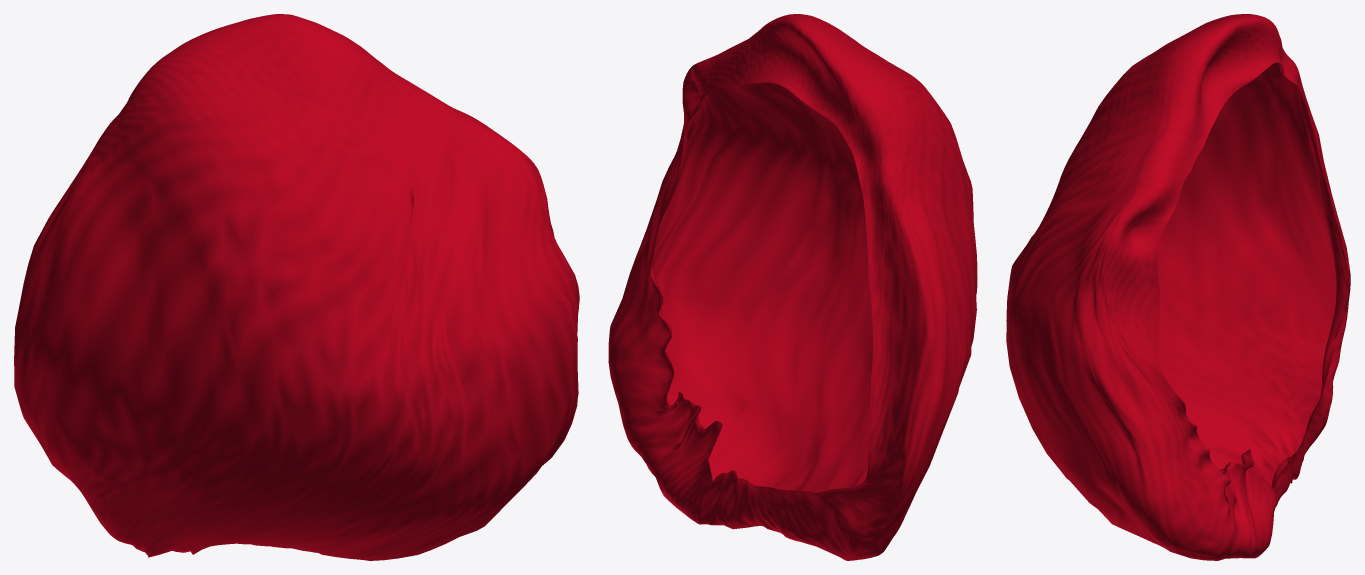
Rendered from EDJCaries_3_OC.glb.
3 views of the same model, side by side, from view 1: azimuth 30°, elevation 25°; view 2: azimuth 150°, elevation 25°; view 3: azimuth 270°, elevation 25° (orthographic). The views are drawn at different scales.
Parts seen in each view (by area): view 1: D3 b.001; view 2: D3 b.001; view 3: D3 b.001.
Part boxes in pixels (left/top/right/bottom): D3 b.001: left=14, top=14, right=579, bottom=560; D3 b.001: left=608, top=14, right=977, bottom=560; D3 b.001: left=1006, top=14, right=1350, bottom=560.
Bounding box in the file's own units: 1.41 × 1.63 × 1.04.
